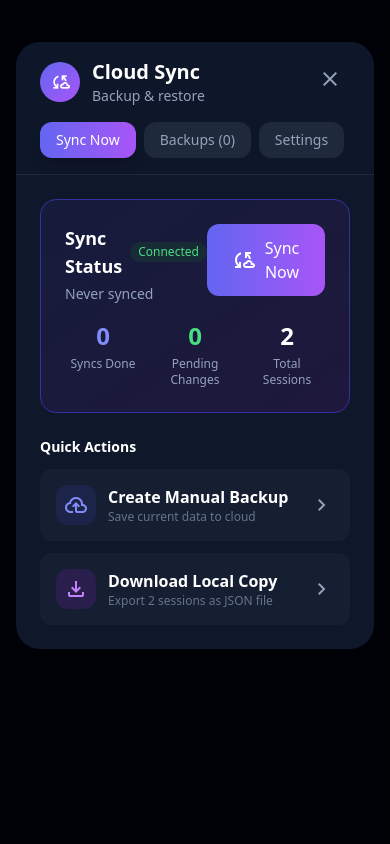
CloudSyncModal › Tab Navigation › should switch to Settings tab when clicked
Click the button "Settings".
click(302, 140)  # box [259, 122, 344, 158]
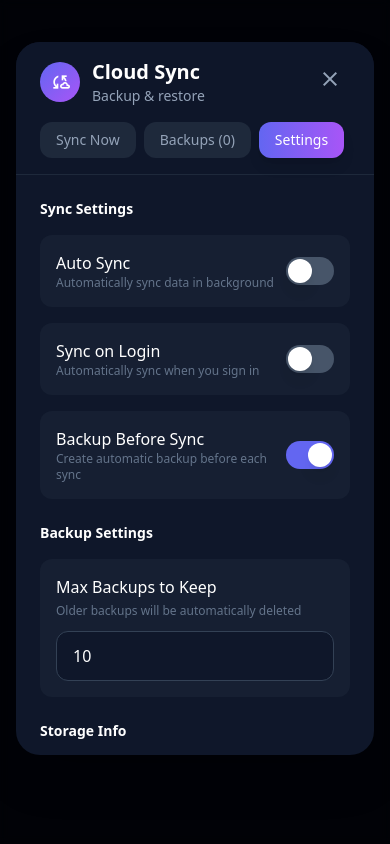
Result: the heading "Sync Settings" is shown at [40, 199, 133, 218]
